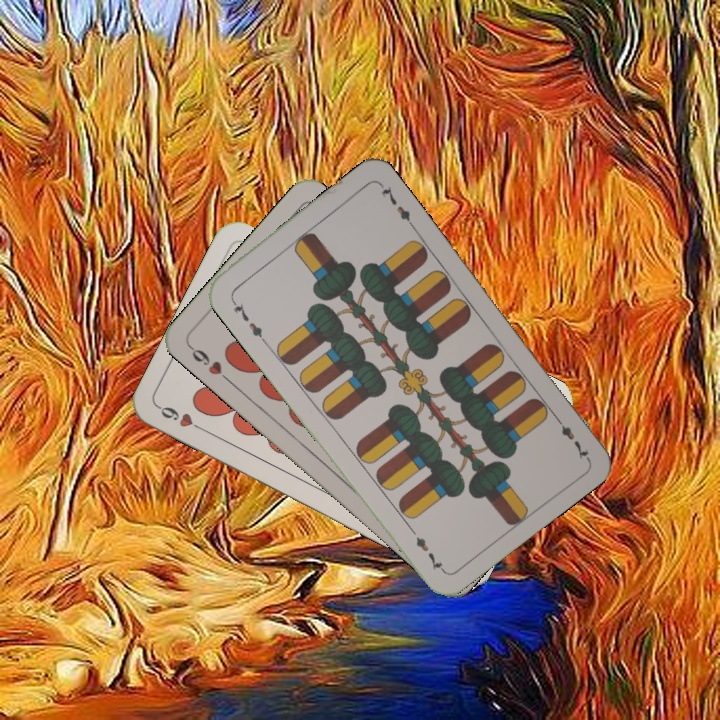E7: (226, 293, 268, 345), (550, 411, 591, 462)
H9: (185, 341, 233, 385), (154, 401, 209, 435)
